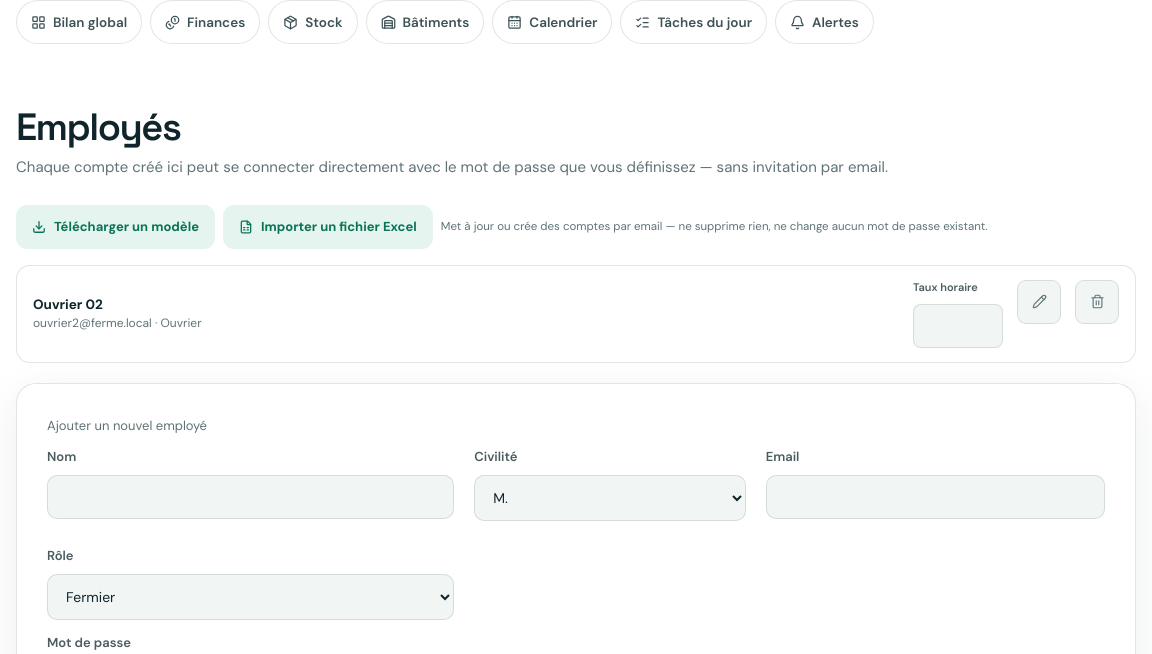
it: EmployeesPage — per-row actions › a rejected hourly rate says why and keeps the typed value
Type "750" into the number field labelled "Taux horaire". click: (958, 326)
box: top-left (913, 304), bottom-right (1003, 348)
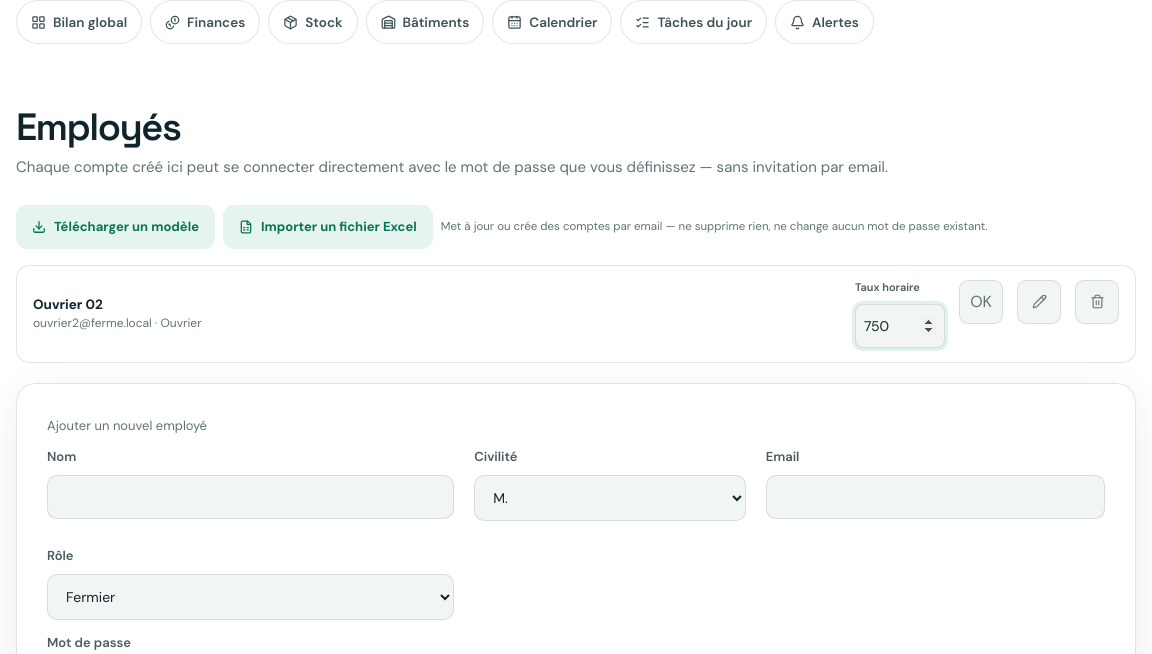
Click the button titled "Enregistrer le taux". click: (981, 302)
box: top-left (959, 280), bottom-right (1003, 324)
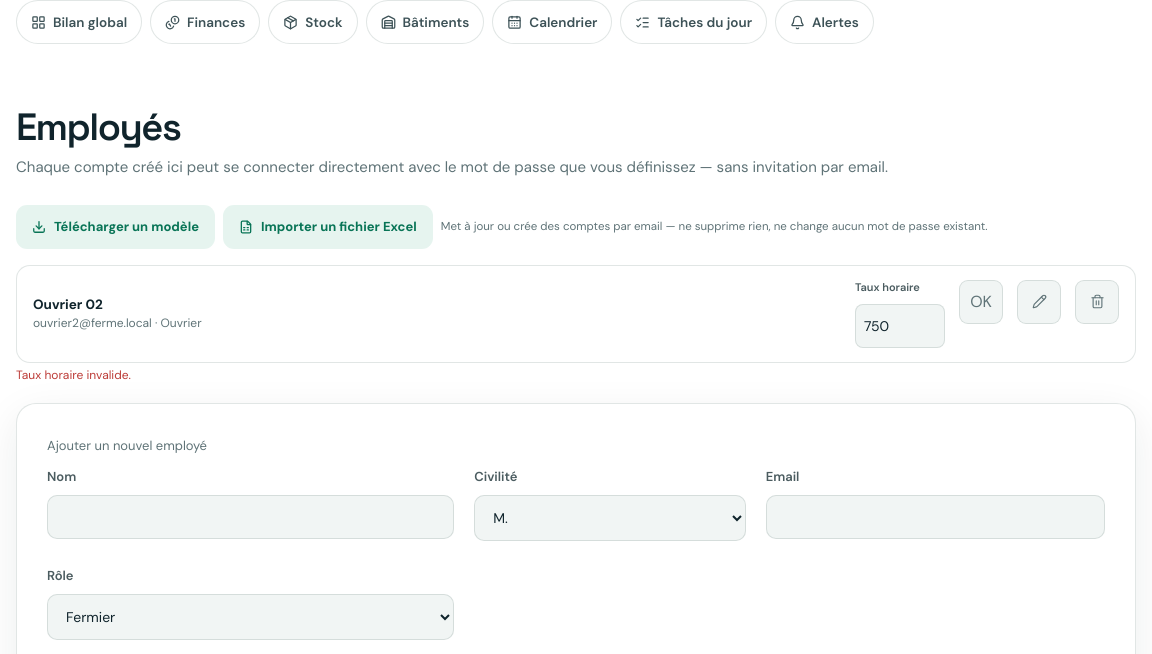
expect the message reads "Taux horaire invalide.": met, box top-left (16, 367), bottom-right (131, 383)
